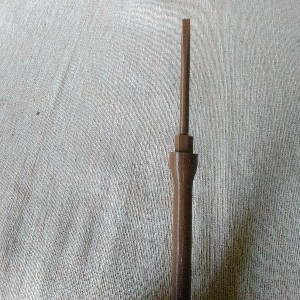obeng: (168, 17, 199, 300)
